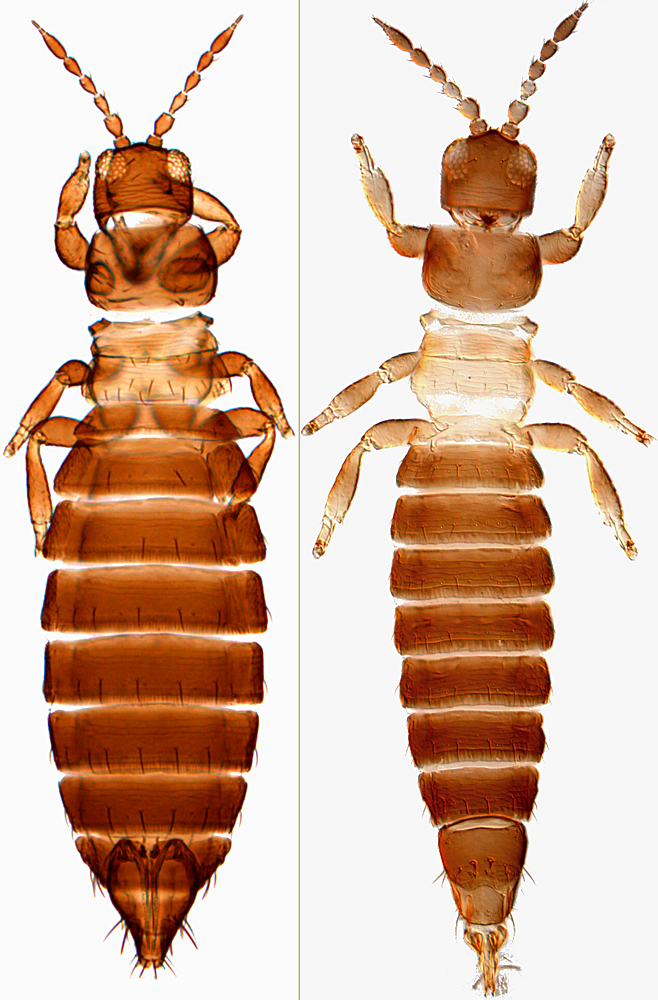Thripidae: (299, 11, 653, 1000), (1, 12, 292, 977)
